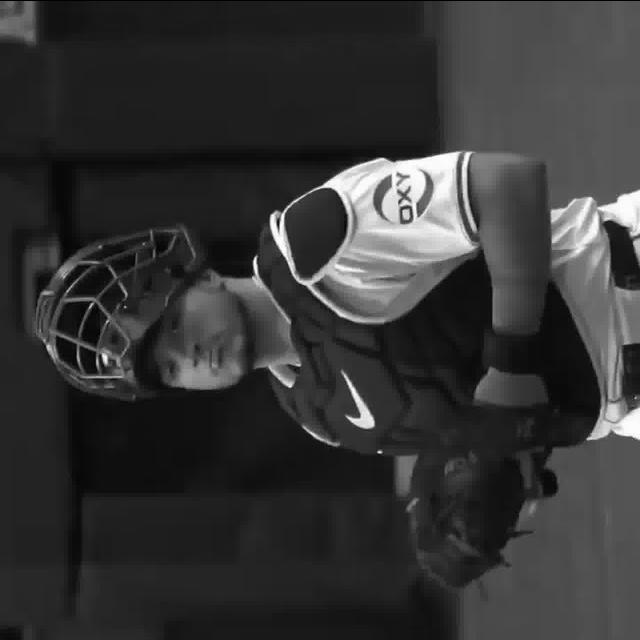baseball_glove: (408, 402, 560, 583)
